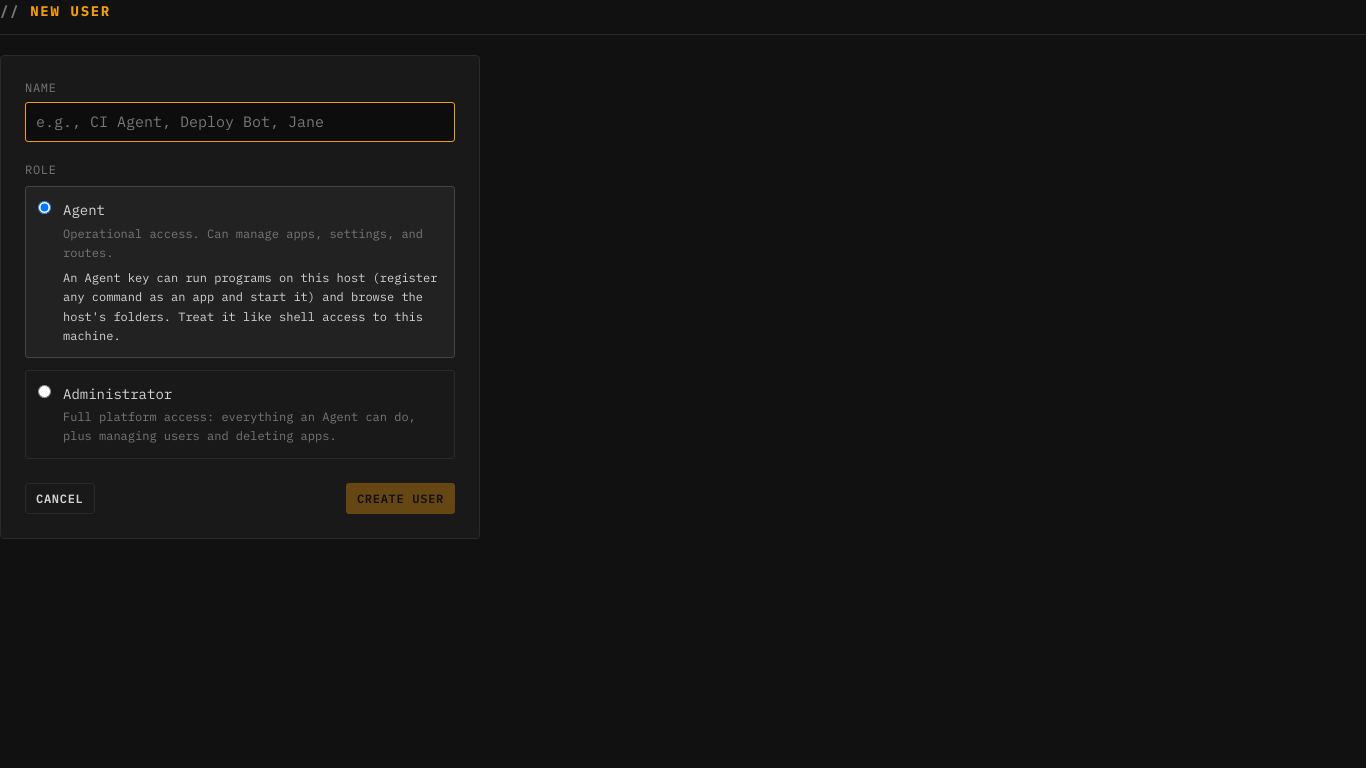
Scenario: UserCreatePage › shows key reveal dialog on successful creation
Type "Deploy Bot" into the field labelled "Name". click: (240, 122)
box: 25,102 -> 455,142
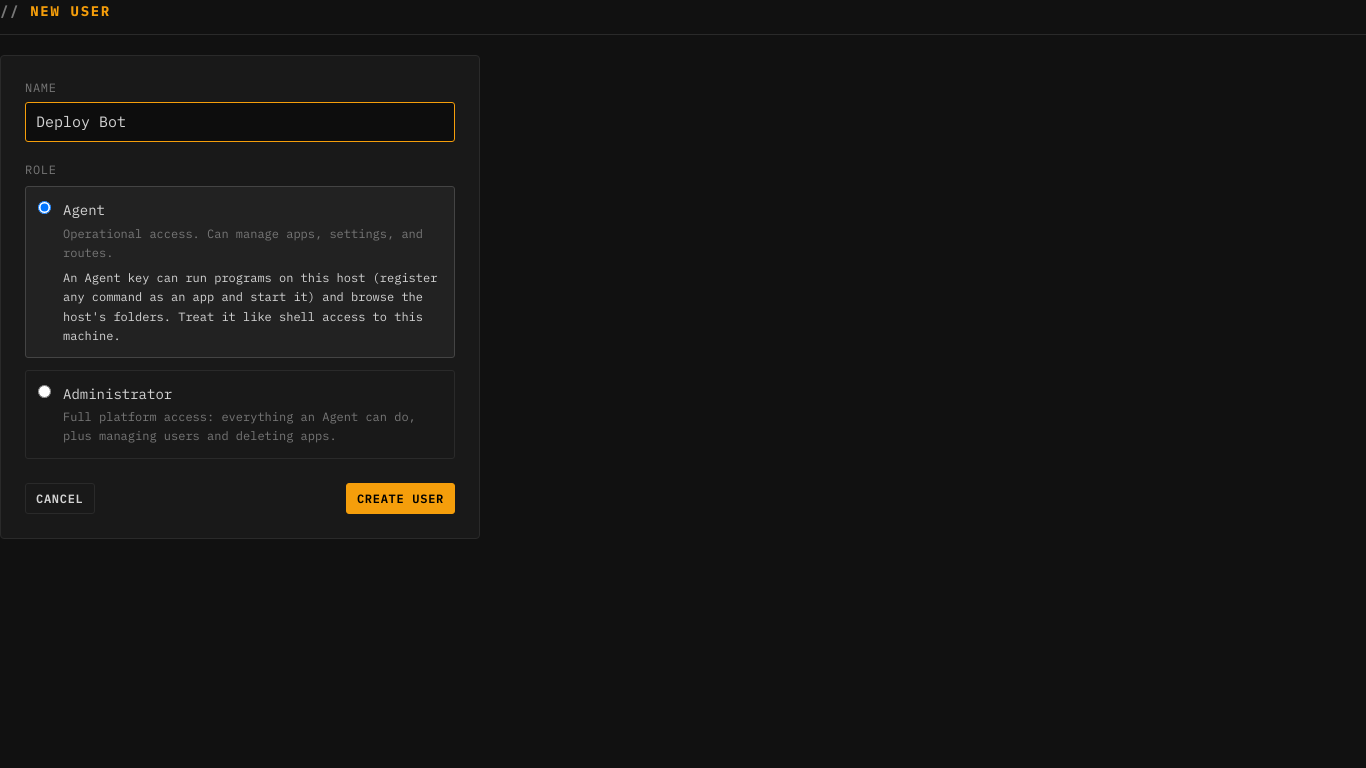
Click the button "Create User". click: (400, 498)
box: 346,483 -> 455,514
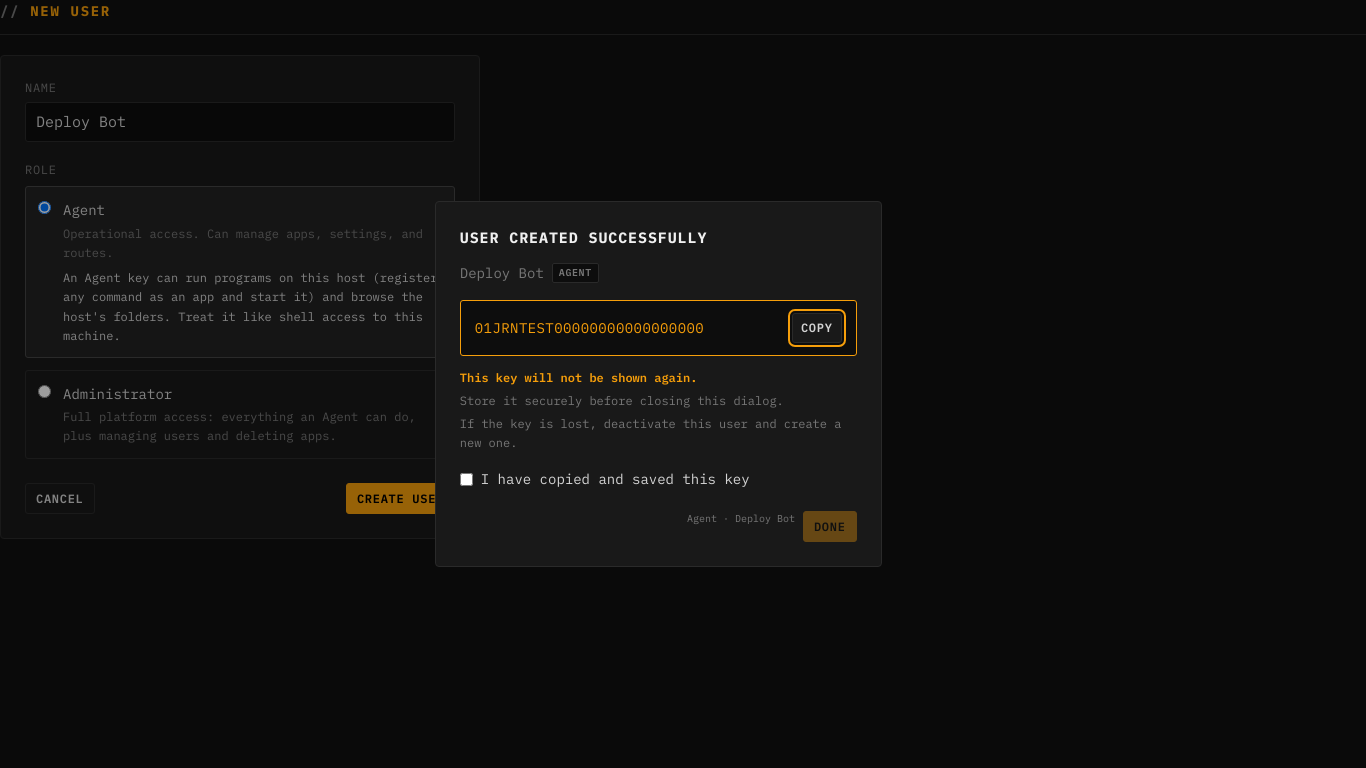
Expected: the text "User Created Successfully" is shown, 460,228 -> 707,247
Expected: the text "01JRNTEST00000000000000000" is shown, 475,319 -> 704,337
